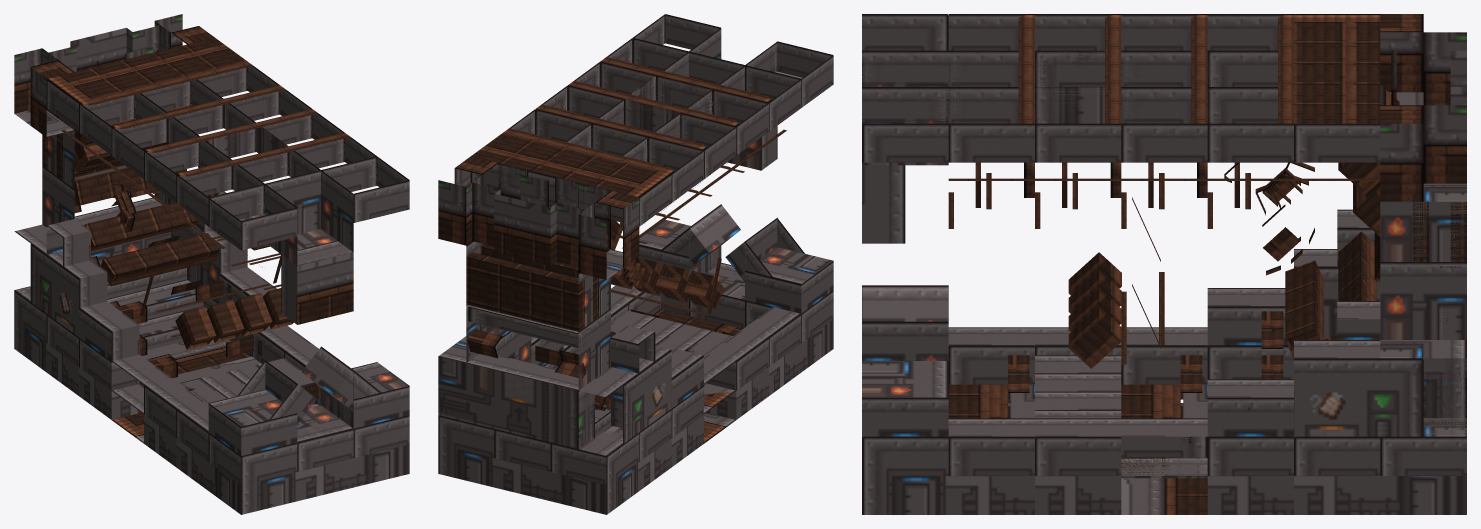
Rendered from continuous_casting_machine.obj.
3 views of the same model, side by side, from view 1: azimuth 30°, elevation 25°; view 2: azimuth 150°, elevation 25°; view 3: azimuth 270°, elevation 25° (orthographic). The views are drawn at different scales.
Parts seen in each view (by area): view 1: mesh; view 2: mesh; view 3: mesh.
Part boxes in pixels (x1,y1,x2,y2): mesh: (14, 14, 409, 514); mesh: (438, 14, 833, 514); mesh: (862, 14, 1466, 514).
Bounding box in the file's own units: 3 × 5 × 7.
